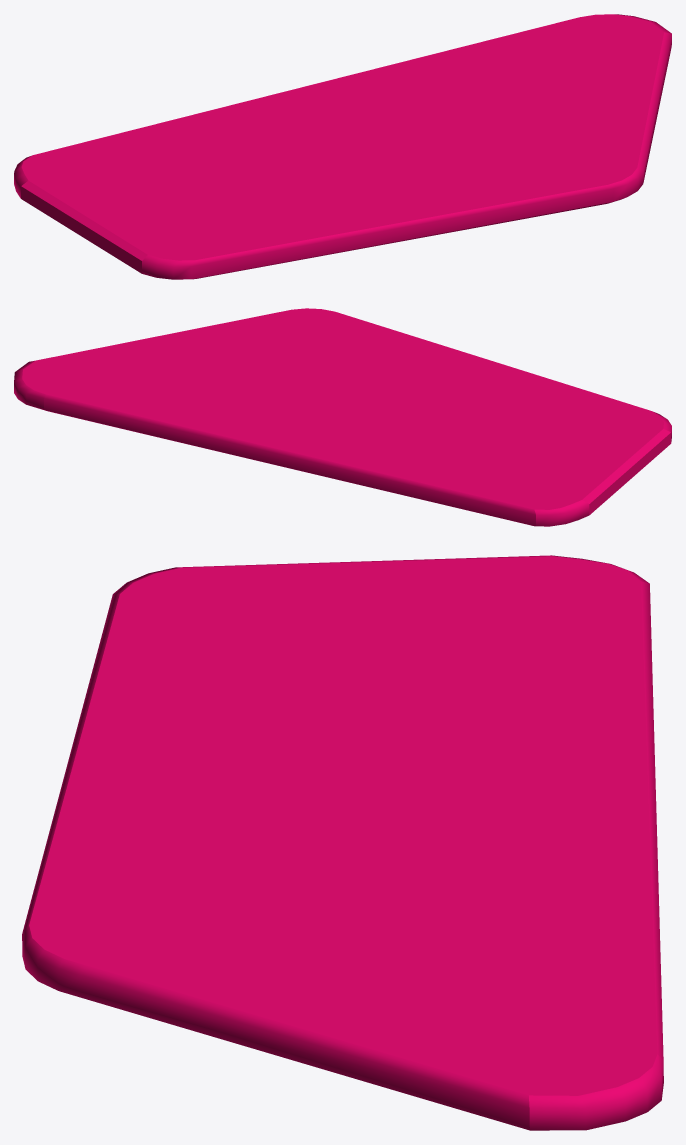
File: Board_Form_13.fbx
3 renders of one model, top to bottom at view 1: azimuth 30°, elevation 25°; view 2: azimuth 150°, elevation 25°; view 3: azimuth 270°, elevation 25°, orthographic. The views are drawn at different scales.
Parts seen in each view (by area): view 1: Board_Form_13; view 2: Board_Form_13; view 3: Board_Form_13.
Part boxes in pixels (bbox=[...]): Board_Form_13: bbox=[14, 14, 671, 279]; Board_Form_13: bbox=[14, 308, 671, 526]; Board_Form_13: bbox=[22, 555, 663, 1130].
Size of the model in its own units: 10.75 by 0.303 by 5.27.
